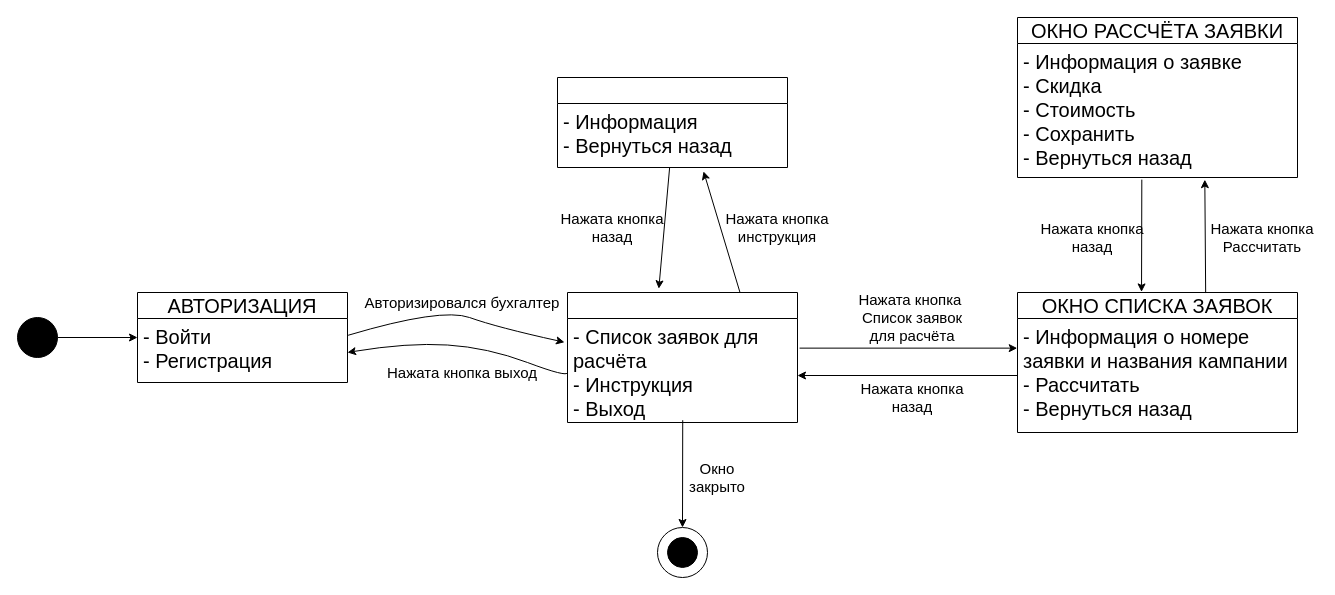
Image size: 1335x595. Some labels were removed from this diagram. Here are the shapes that lost their labels. From the top down, the box of each, then its label:
(556, 76, 788, 168): ОКНО ИНСТРУКЦИИ
(566, 292, 798, 422): ОКНО БУХГАЛТЕРА
